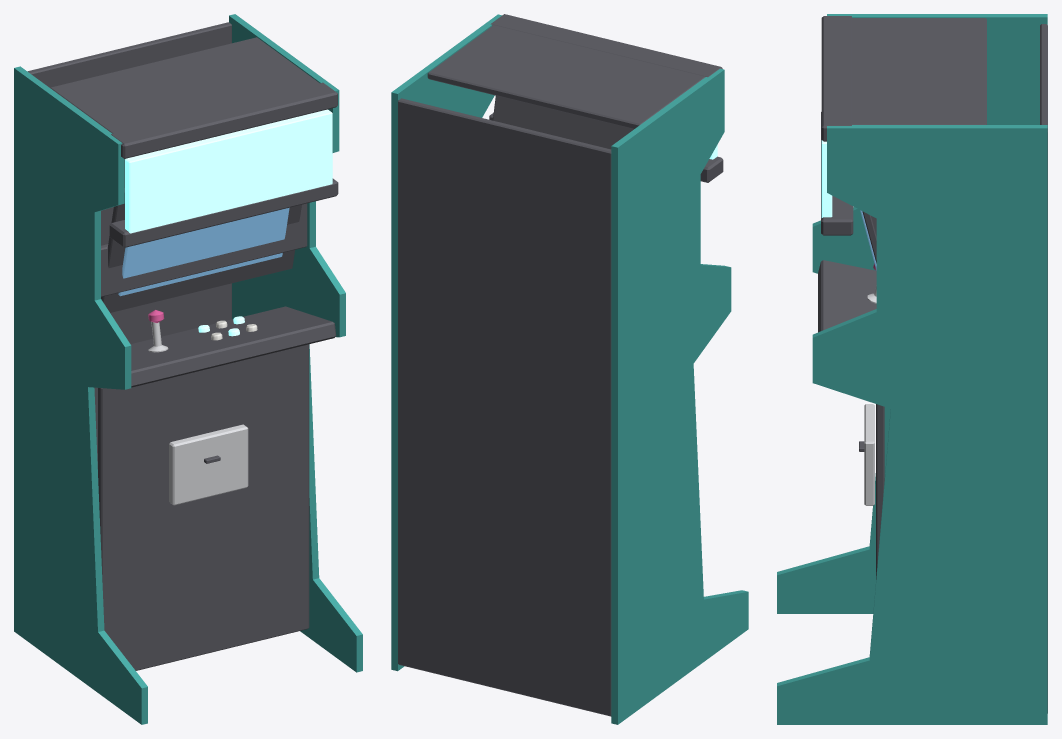
Rendered from bowling-alley-and-pool-hall-arcade-cabinet-bff3a400__33868.glb.
The picture shows the model from 3 angles, left to right: view 1: azimuth 30°, elevation 25°; view 2: azimuth 150°, elevation 25°; view 3: azimuth 270°, elevation 25°; orthographic projection. The views are drawn at different scales.
Visible parts, largest first — view 1: arcade-cabinet; view 2: arcade-cabinet; view 3: arcade-cabinet.
Part boxes in pixels (<box>): arcade-cabinet: <box>14,14,362,724</box>; arcade-cabinet: <box>391,14,748,724</box>; arcade-cabinet: <box>777,14,1047,724</box>.
Size of the model in its own units: 0.76 by 1.85 by 0.761.
